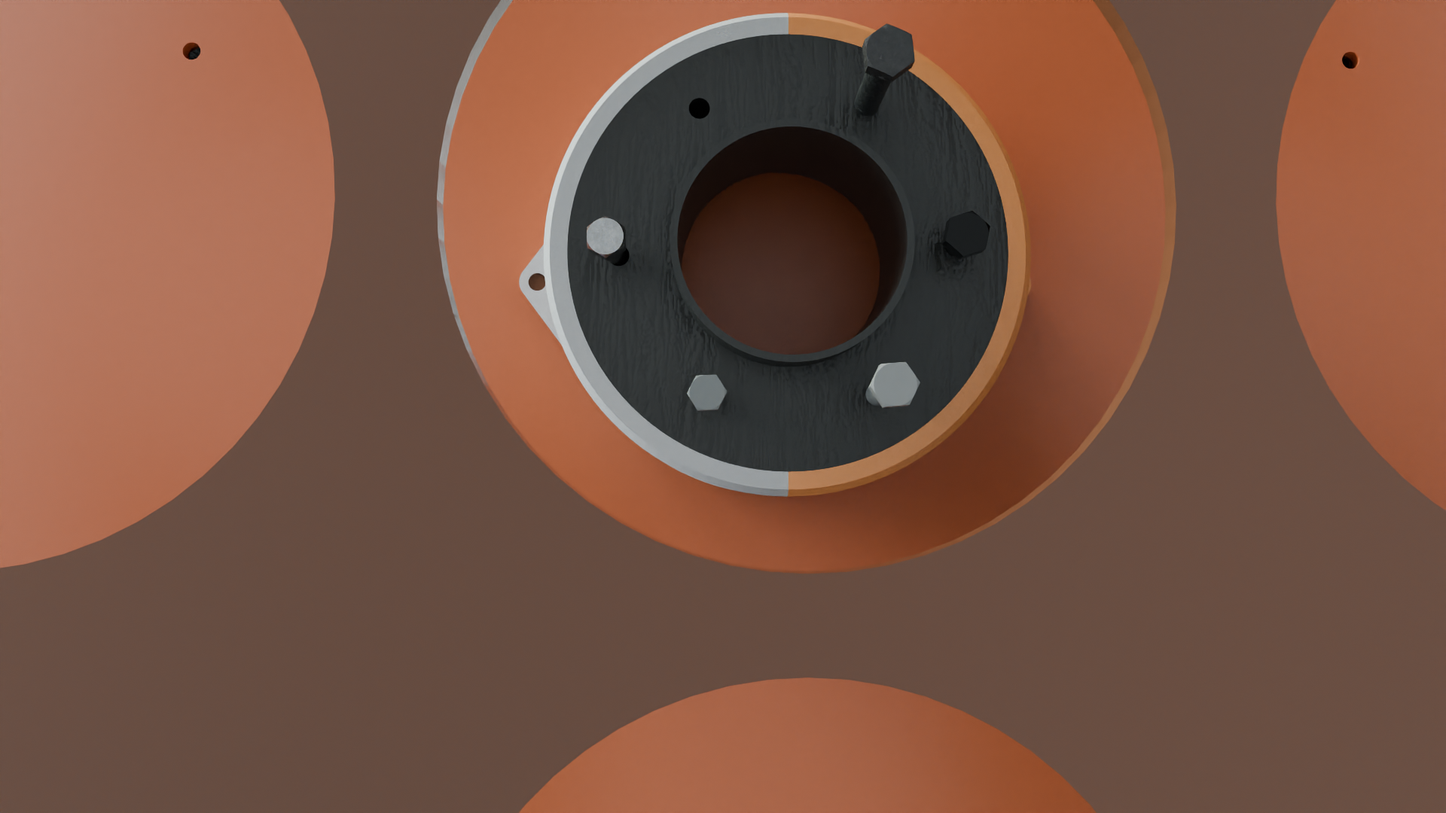bolt: (865, 23, 915, 77), (871, 362, 920, 406), (945, 211, 990, 256), (587, 216, 624, 258), (687, 375, 727, 410)
